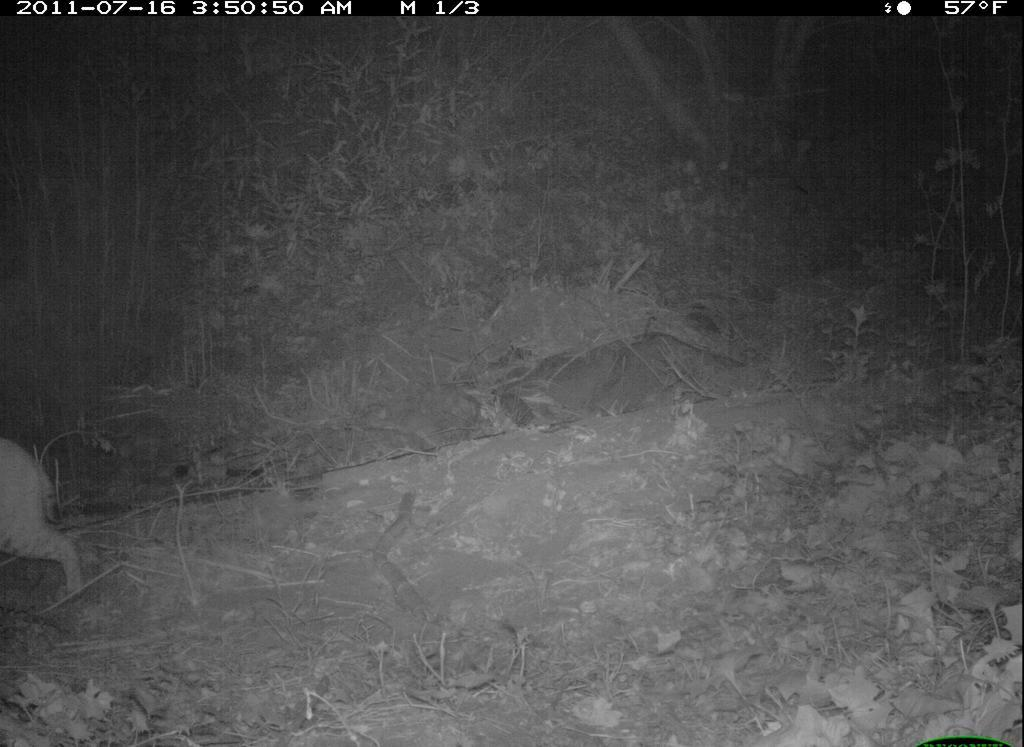bobcat: (3, 431, 97, 612)
